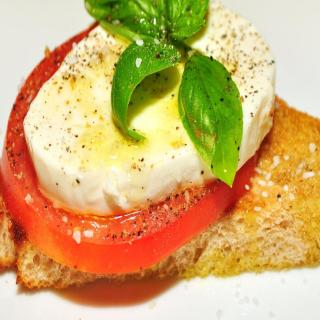tomato: (16, 17, 280, 282)
